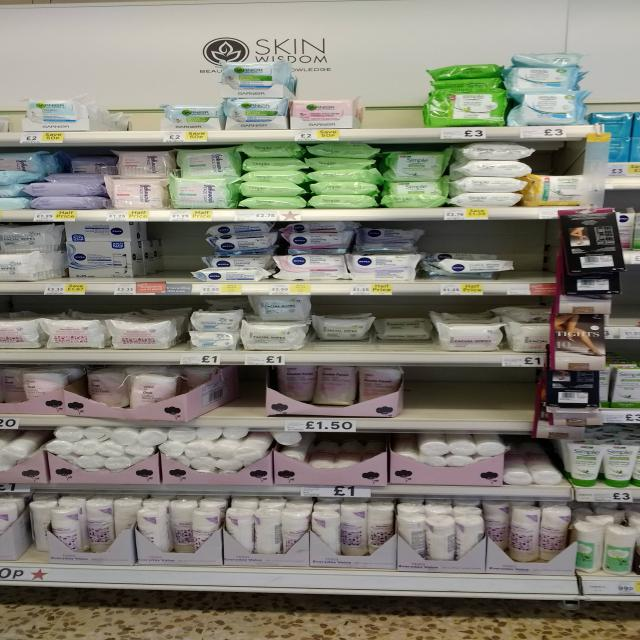void: (495, 368, 534, 438), (521, 224, 557, 295), (97, 68, 130, 145), (449, 367, 488, 432), (219, 368, 261, 428), (3, 60, 31, 150), (135, 69, 166, 146), (1, 498, 29, 582), (58, 368, 98, 426), (408, 369, 444, 430), (396, 63, 423, 144), (367, 62, 392, 142), (141, 225, 169, 294), (175, 223, 198, 295)
